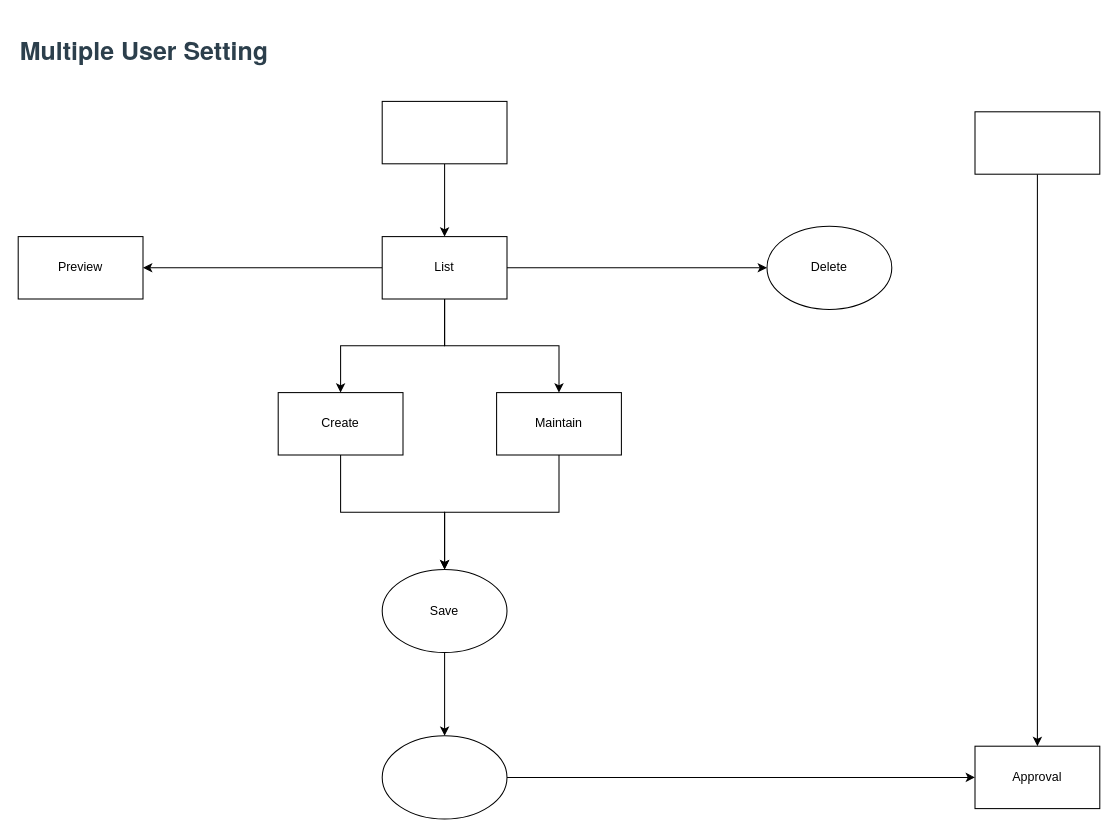
The diagram is 1118 pixels wide and 837 high, and some of its shapes have lost their labels. The centre of each missing label's shape, as x and y in pixels:
inbox: pixel 1037 142
Portal -Basep09: pixel 444 132
Submit: pixel 444 777
